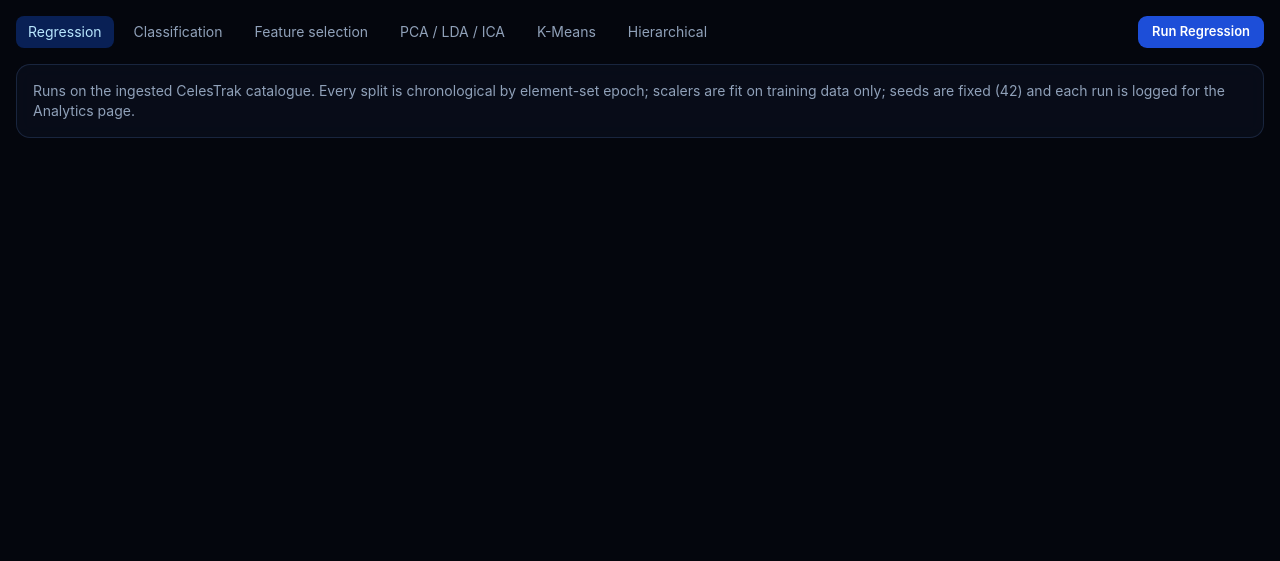
Test: every page renders against real API payloads › ML Lab tab Regression
Click the button "Regression".
click(65, 32)  # box [16,16,114,48]
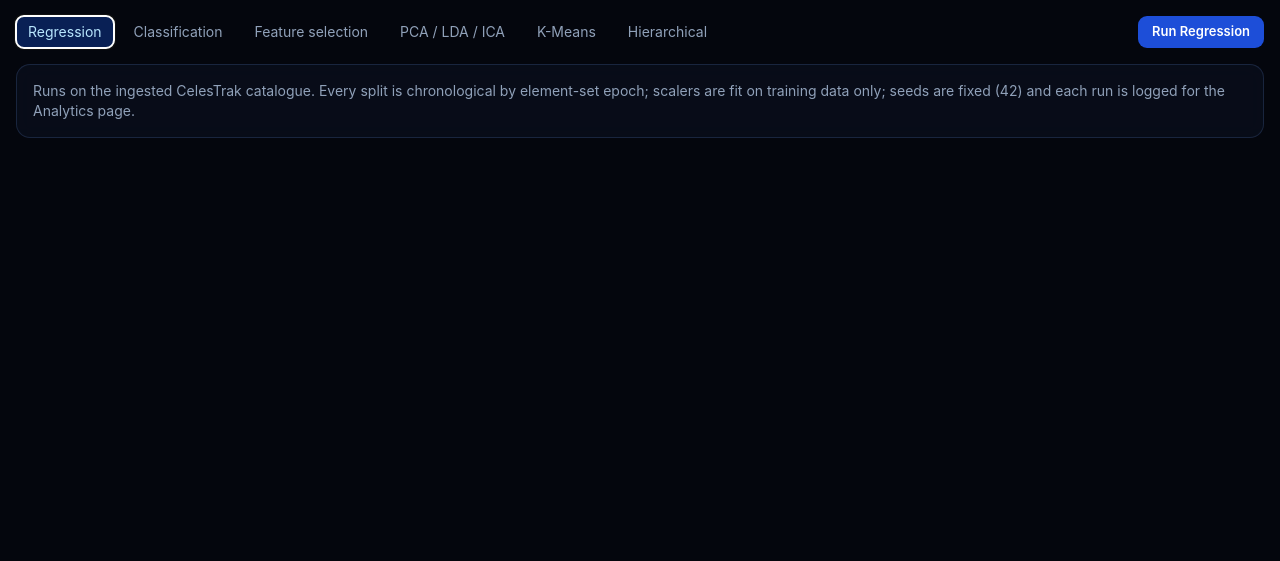
Click the button "Run Regression".
click(1201, 32)  # box [1138,16,1264,48]
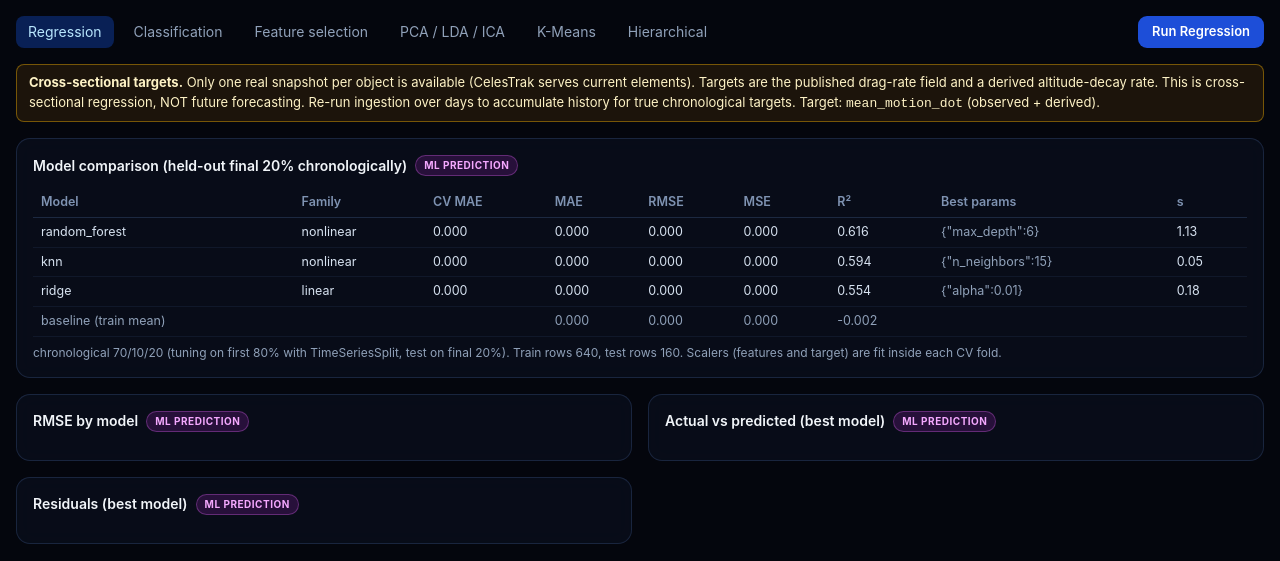
Result: the heading "Model comparison (held-out final 20% chronologically)" is shown at [33,156,407,176]
